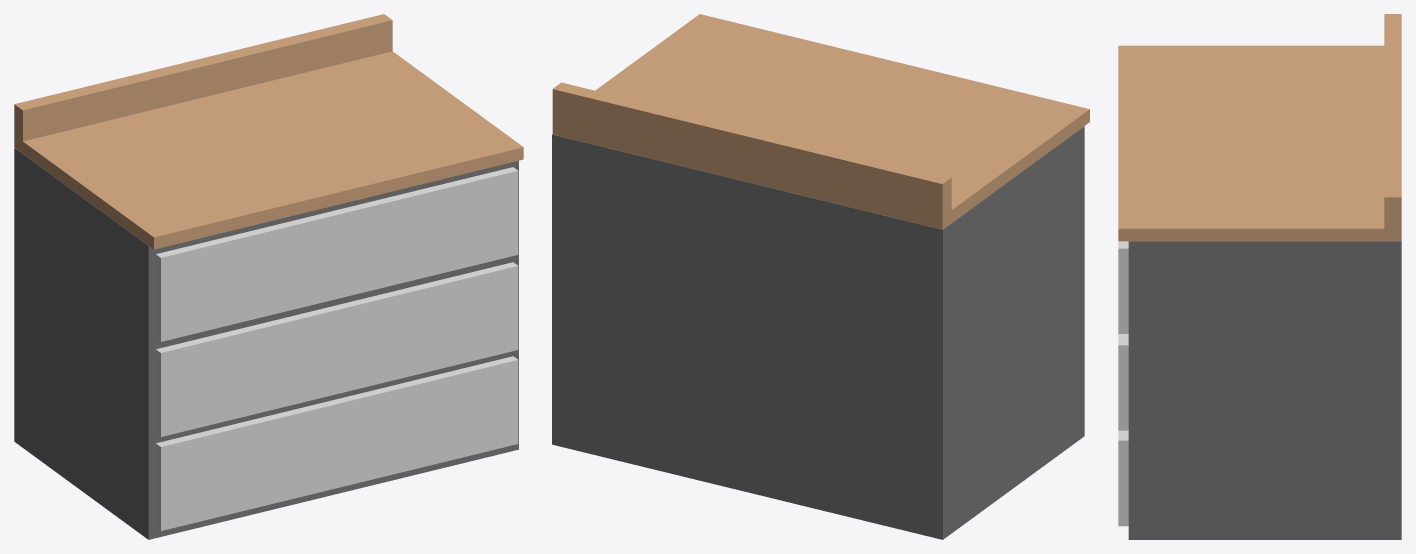
File: Counter1.fbx
The picture shows the model from 3 angles, left to right: view 1: azimuth 30°, elevation 25°; view 2: azimuth 150°, elevation 25°; view 3: azimuth 270°, elevation 25°; orthographic projection. The views are drawn at different scales.
Parts seen in each view (by area): view 1: Cube.003; view 2: Cube.003; view 3: Cube.003.
Part boxes in pixels (box(x1,y1,x2,y2)): Cube.003: box(14, 14, 523, 539); Cube.003: box(552, 14, 1089, 539); Cube.003: box(1118, 14, 1401, 539).
Size of the model in its own units: 400 by 348 by 261.
